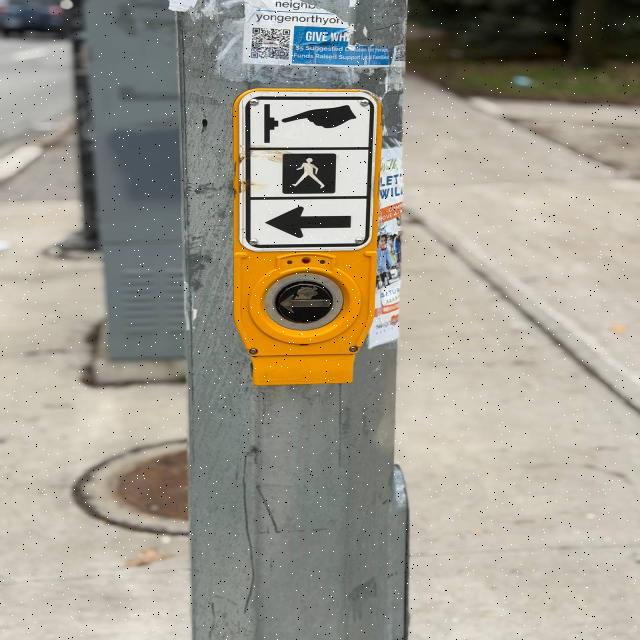Electrical Pole: (171, 1, 424, 639)
